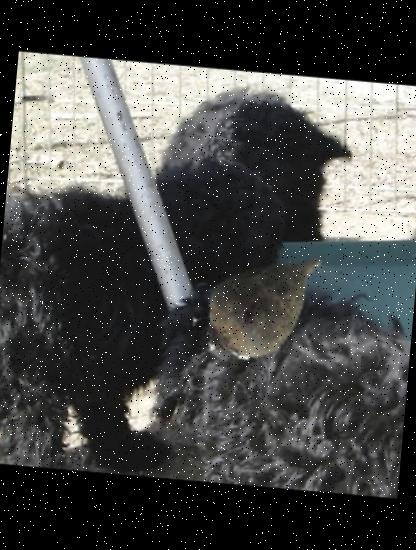Beetroot: (184, 225, 344, 385)
